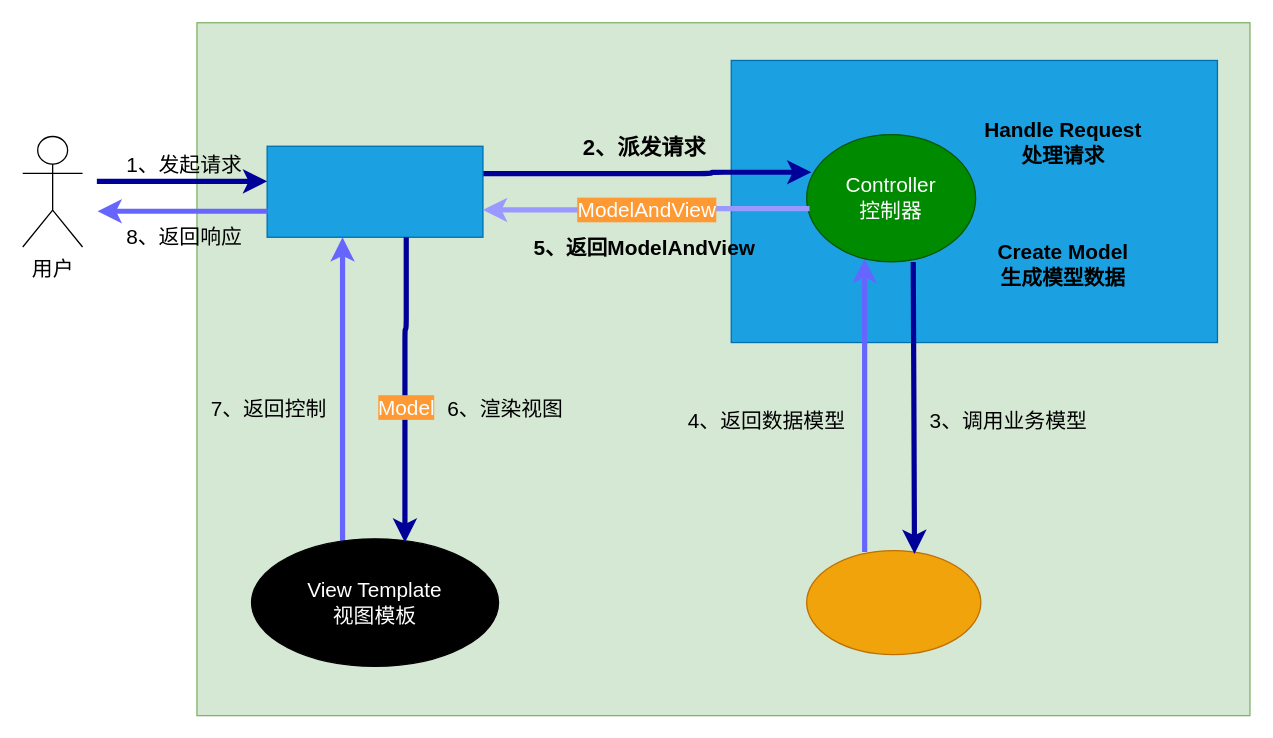
Some shapes in this 1273 by 738 pixel diagram are drawn without their labels. The shapes that lost their labels are listed below. From the top down, each one's centre as x and y in pixels, then its label:
At (x=374, y=191): "Front Controller 前端控制器".
At (x=893, y=602): "Model 模型".
